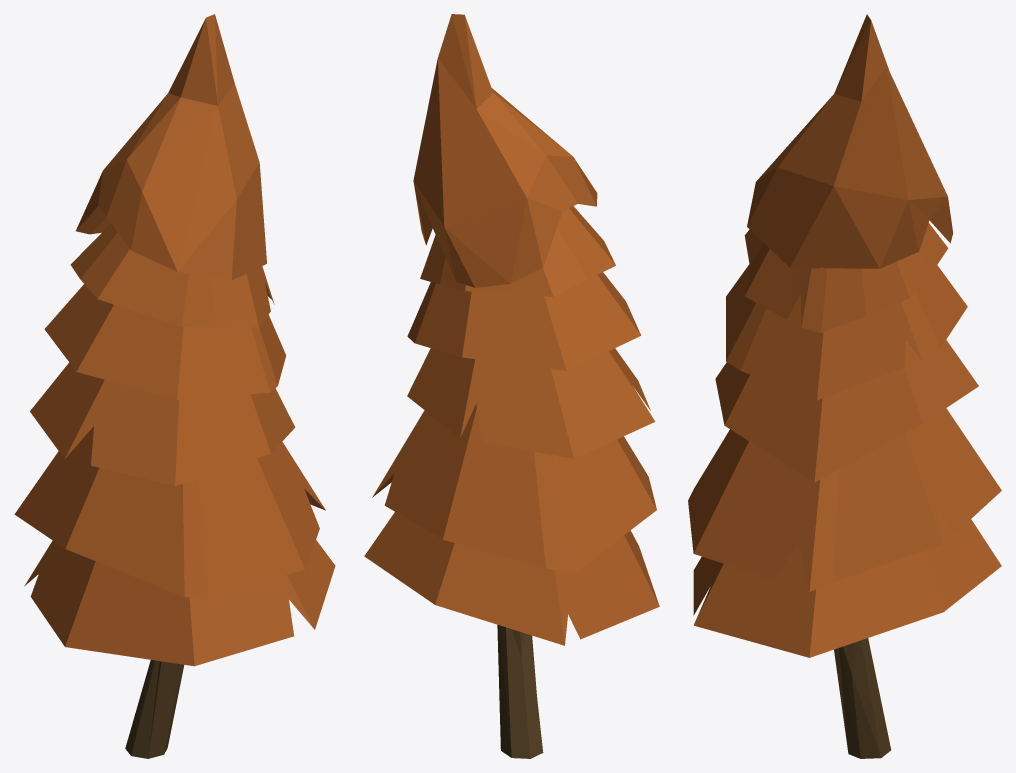
The model's file is pointyTree3.fbx.
The picture shows the model from 3 angles, left to right: view 1: azimuth 30°, elevation 25°; view 2: azimuth 150°, elevation 25°; view 3: azimuth 270°, elevation 25°; orthographic projection. The views are drawn at different scales.
Parts seen in each view (by area): view 1: Tree4; view 2: Tree4; view 3: Tree4.
Boxes of the visible parts, x1,y1,x2,y2 form: Tree4: [14, 14, 335, 758]; Tree4: [364, 14, 659, 758]; Tree4: [688, 14, 1001, 758].
Bounding box in the file's own units: 210 × 533 × 198.
